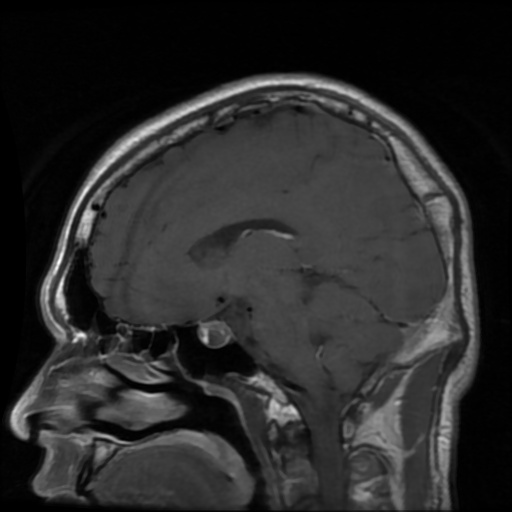pituitary: (197, 321, 232, 348)
